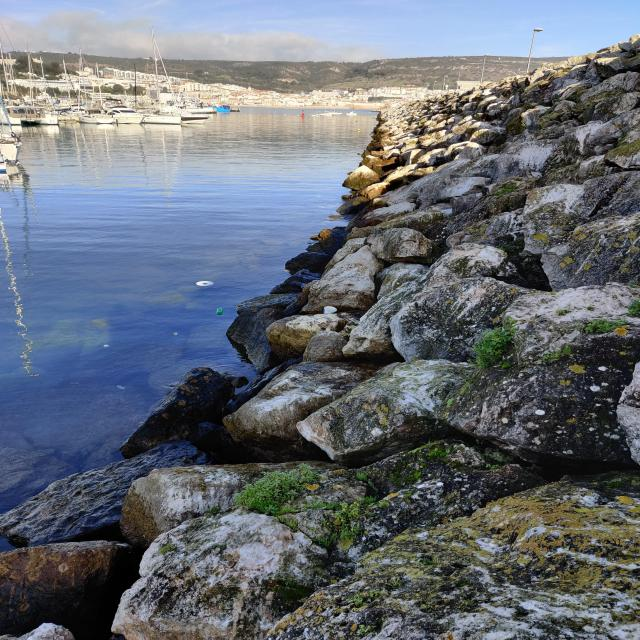litter: (190, 278, 222, 289), (320, 304, 343, 318), (213, 304, 227, 316), (100, 342, 111, 349)
